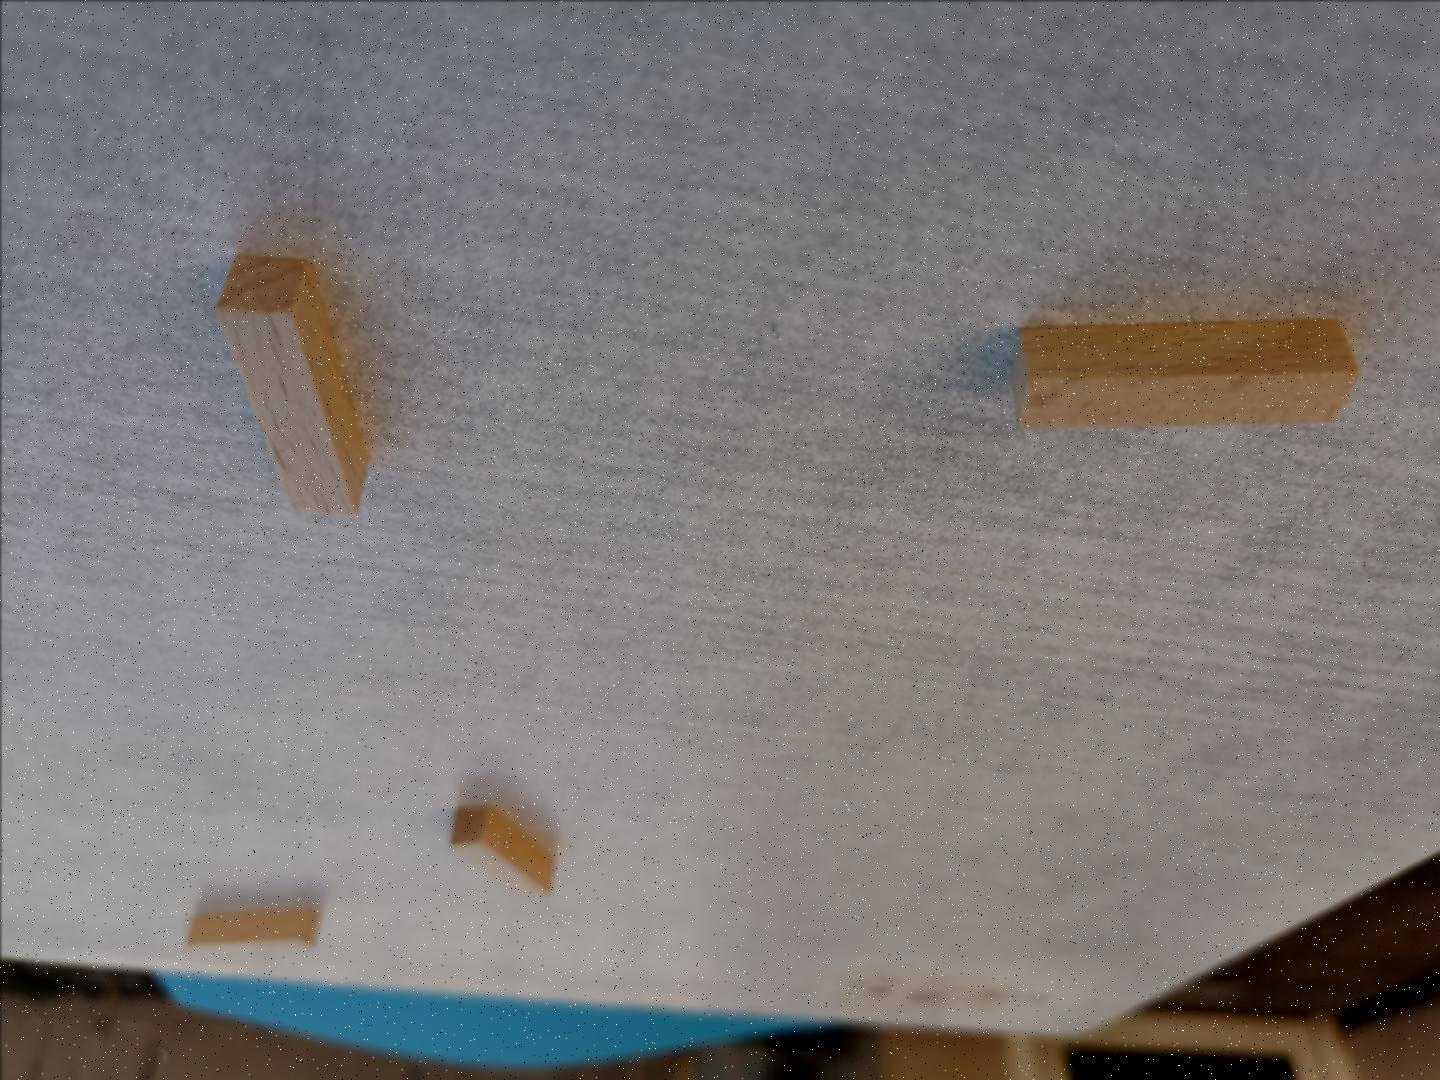jenga: (217, 256, 365, 515), (1009, 321, 1358, 428), (450, 804, 554, 894), (186, 909, 317, 945)
